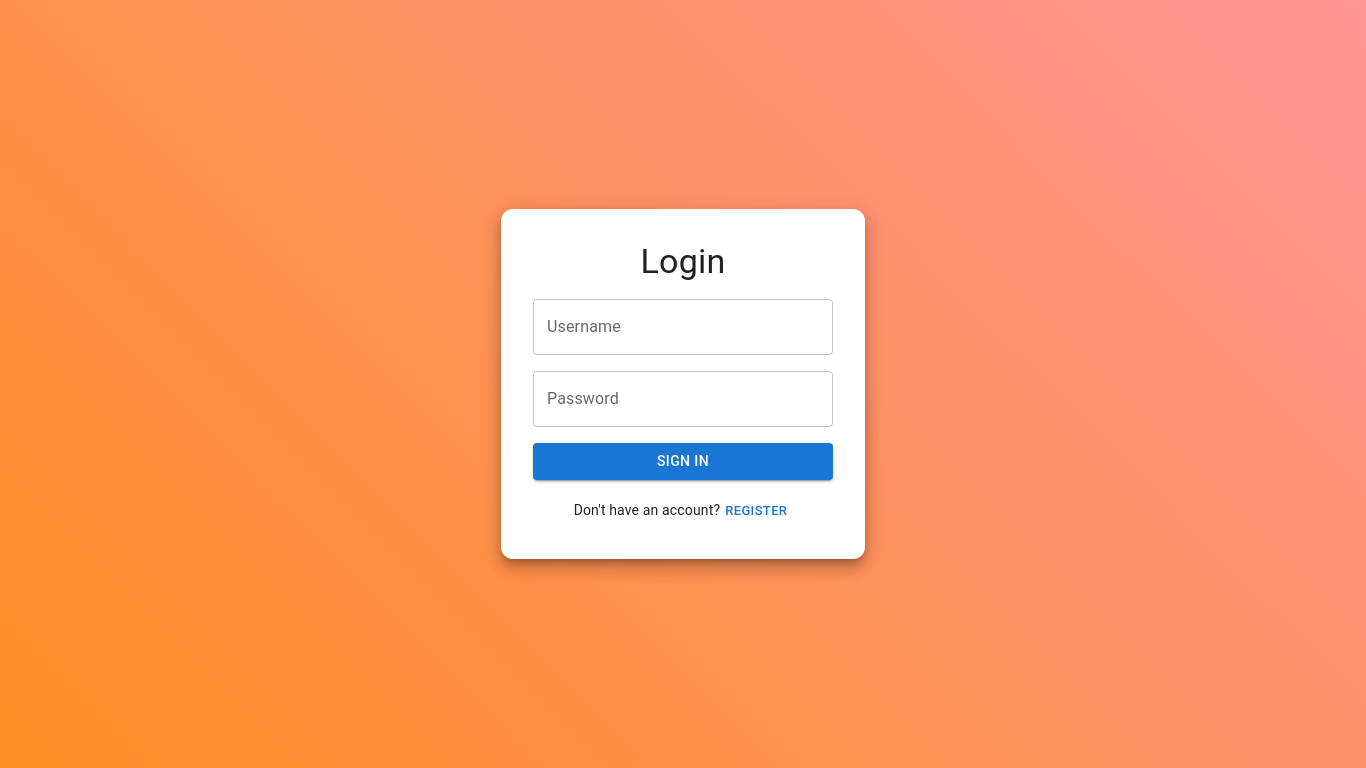
Test: Registration Flow › navigates back to login
The image size is (1366, 768).
Click the button "Register" at coordinates (756, 512), box [720,496,792,527]
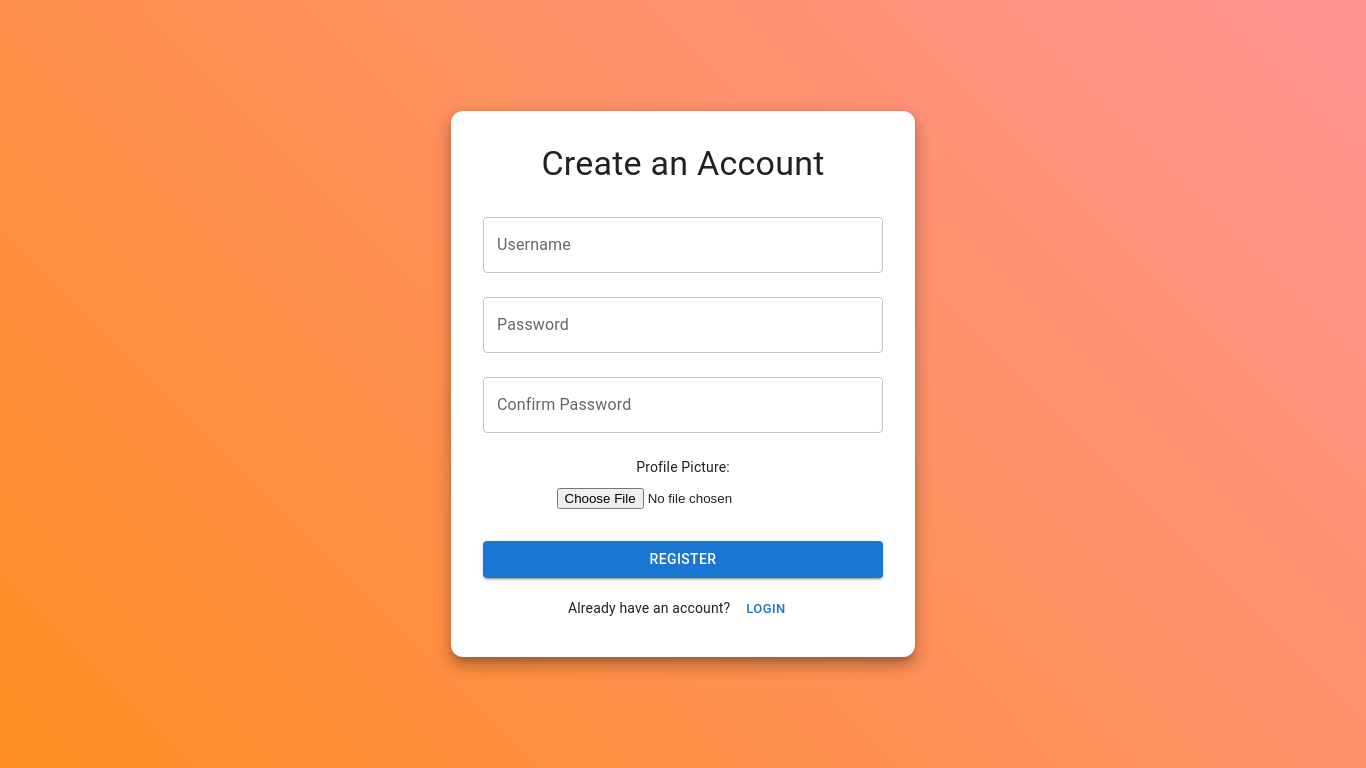
Click the link "Login" at coordinates (766, 609), box [746,601,785,616]
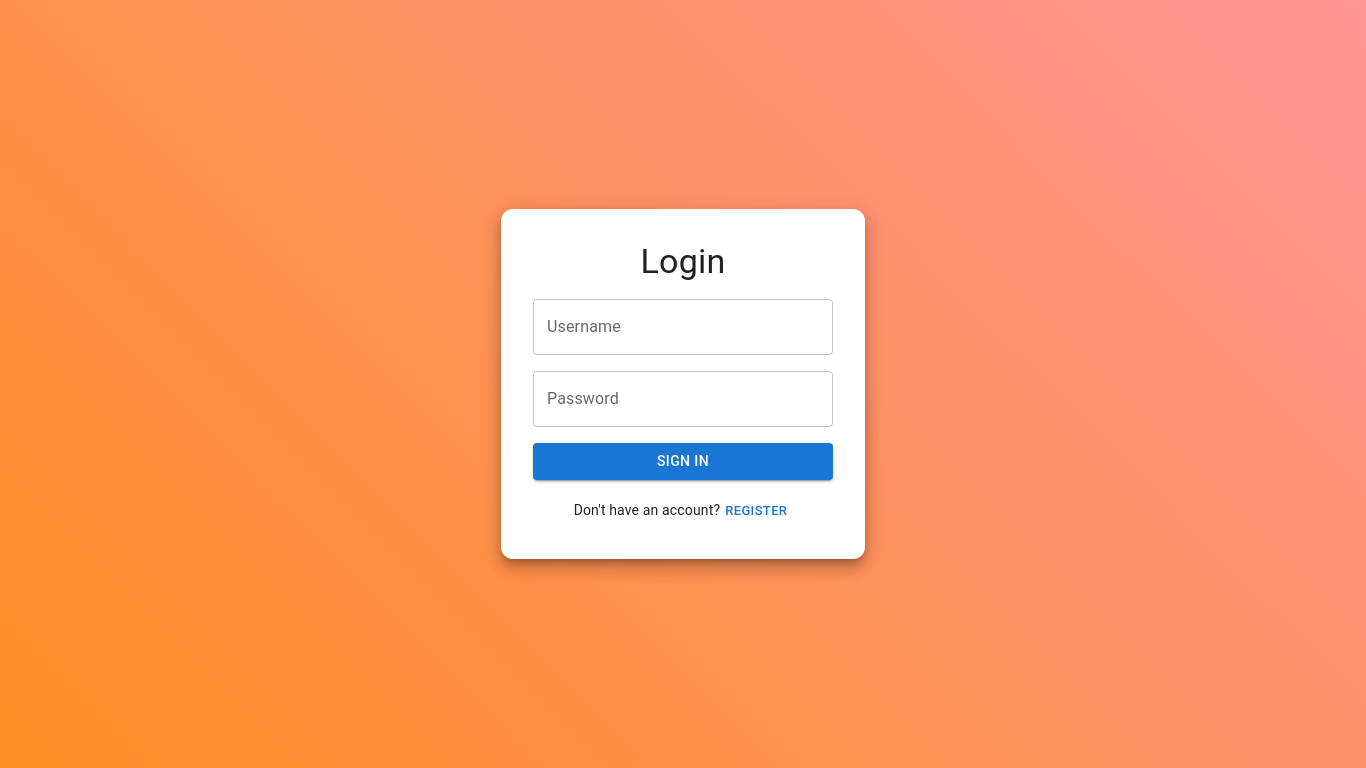
Result: the heading "Login" is shown at [640,241,726,281]
